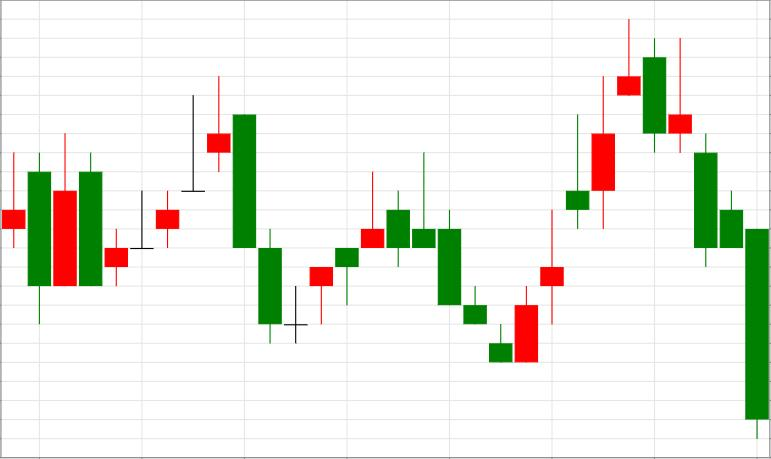bullish_engulfing_rise: (387, 152, 537, 362)
